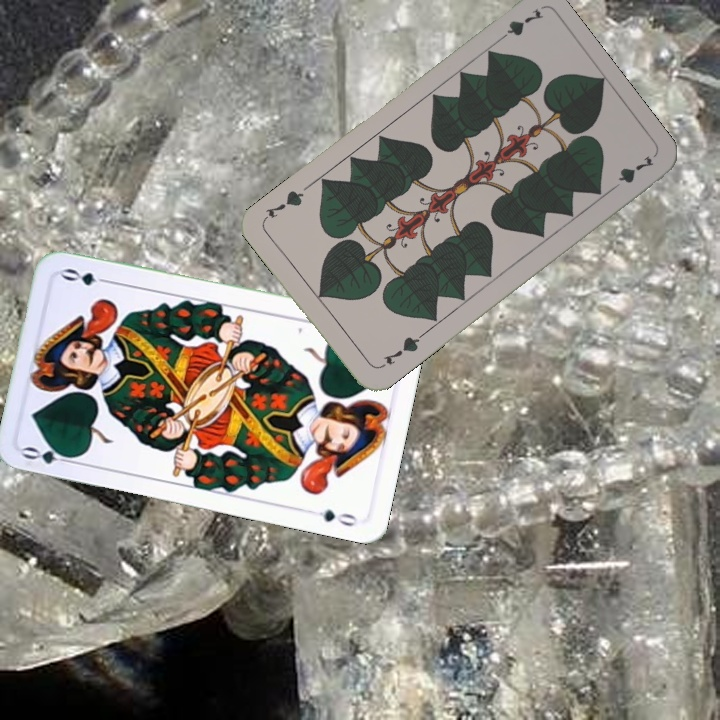G7: (491, 4, 546, 46), (375, 330, 425, 371)
GO: (19, 441, 79, 467)
